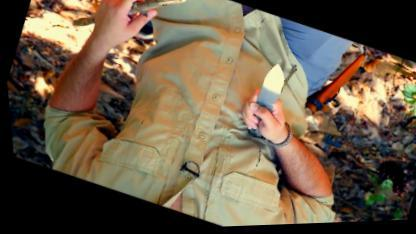knife: (226, 52, 302, 142)
